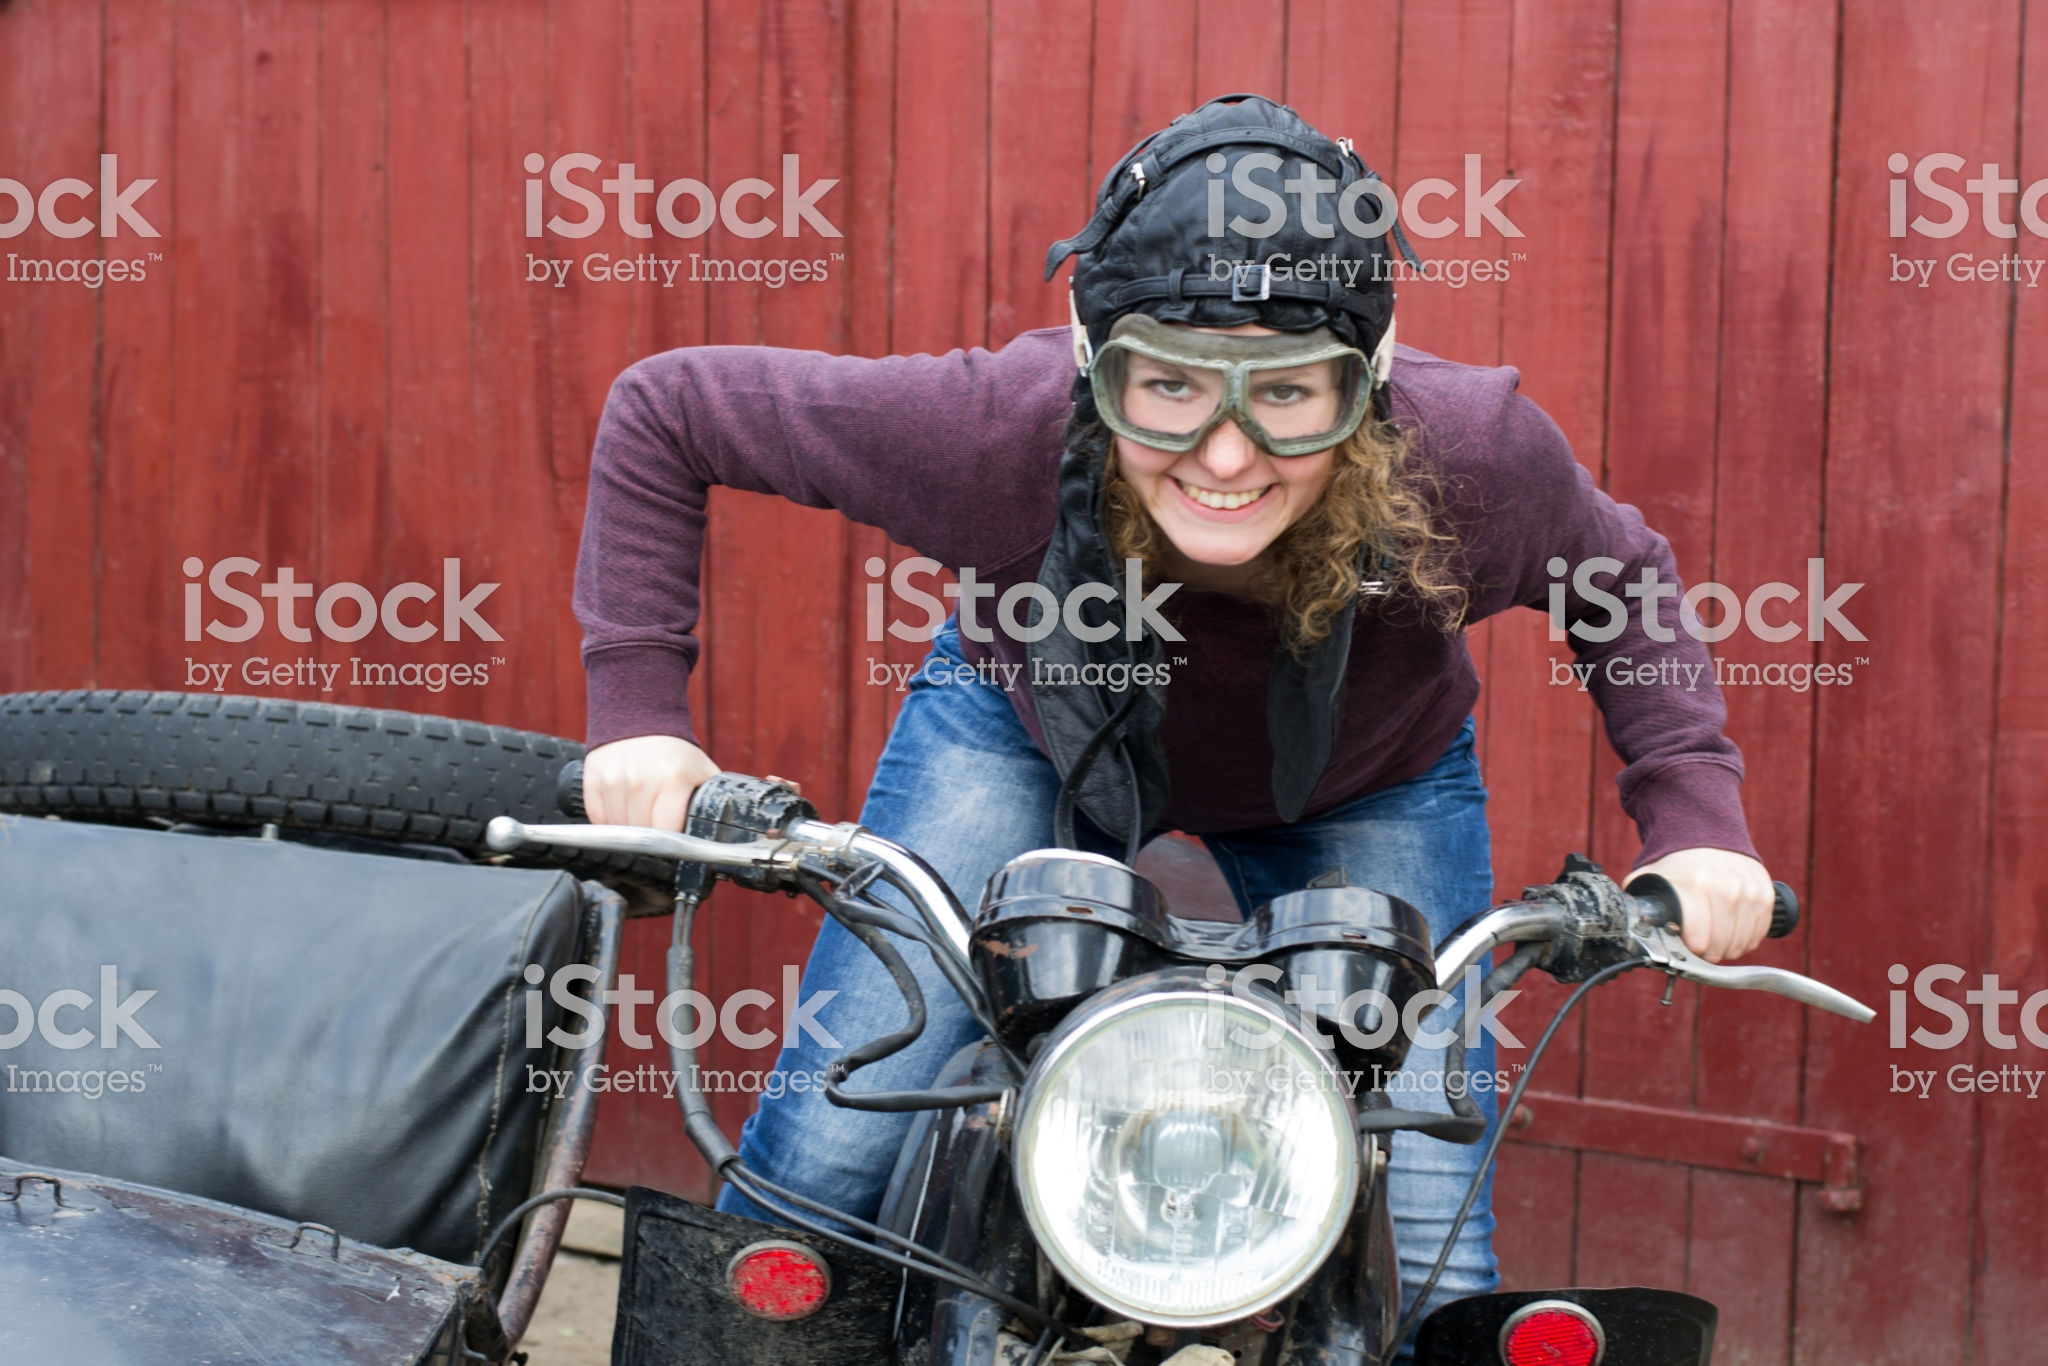helmet: (1041, 104, 1414, 451)
